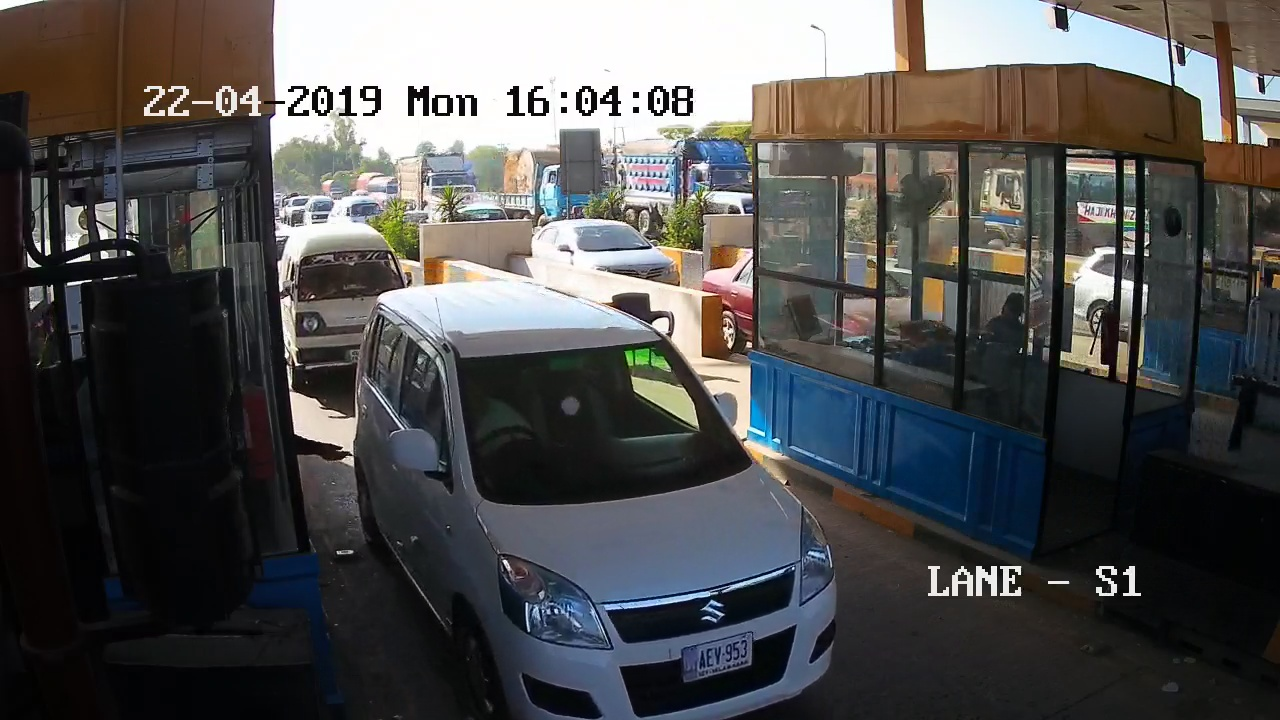Number Plate (Car): (680, 636, 752, 678)
